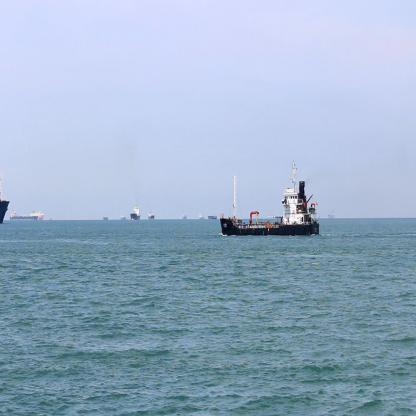Container Ship: (219, 164, 321, 240), (9, 207, 45, 223), (128, 202, 142, 221), (147, 209, 156, 222), (328, 207, 337, 220), (180, 210, 188, 224), (207, 212, 218, 222), (197, 211, 205, 222), (101, 214, 110, 223), (119, 215, 126, 223)
